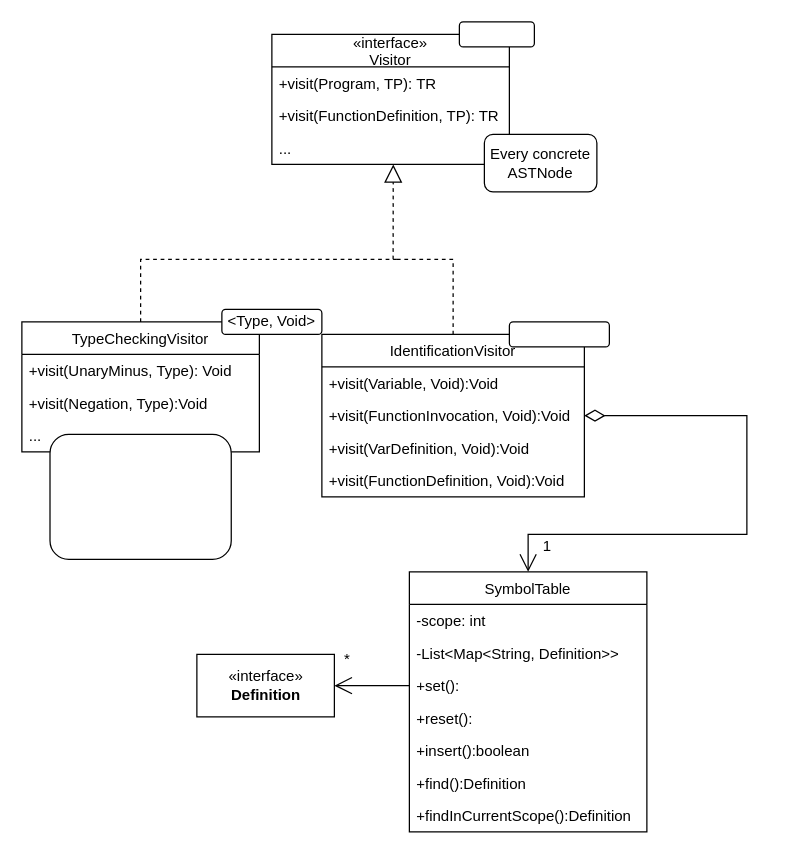
Image size: 790x858. Some labels were removed from this diagram. The centre of each missing label's shape, as x and y in pixels:
"<TP, TR>" belongs at (x=496, y=34).
"<Void, Void>" belongs at (x=558, y=334).
"Every expression + FunctionDefinition + FunctionType + Statements with type" belongs at (x=140, y=496).
